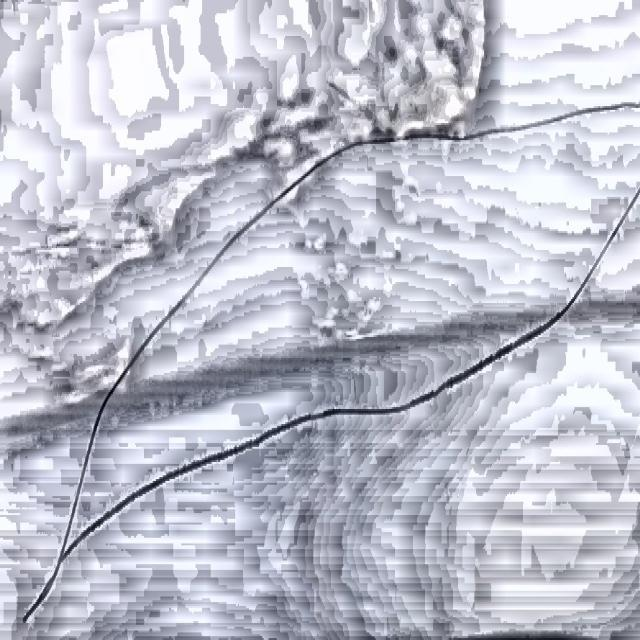crack: (120, 30, 576, 362), (109, 292, 536, 546)
